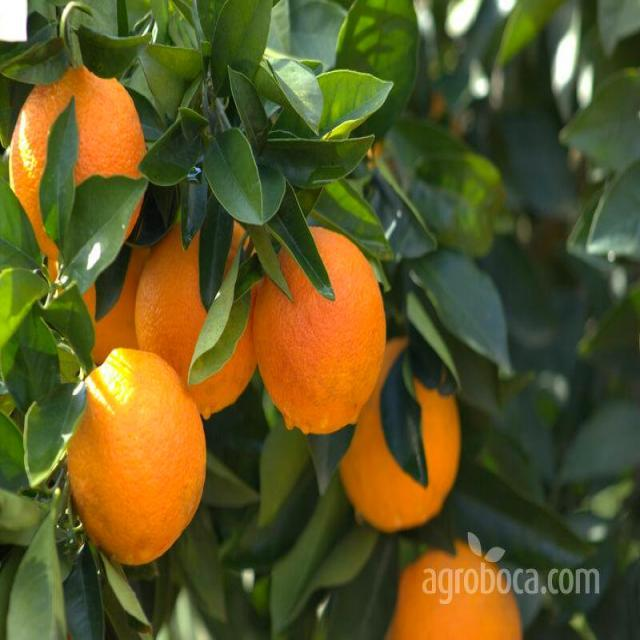Jeruk Sudah Matang: (54, 319, 217, 591), (238, 216, 398, 462), (321, 320, 473, 556), (5, 43, 150, 280), (128, 193, 272, 424), (361, 506, 572, 640)
